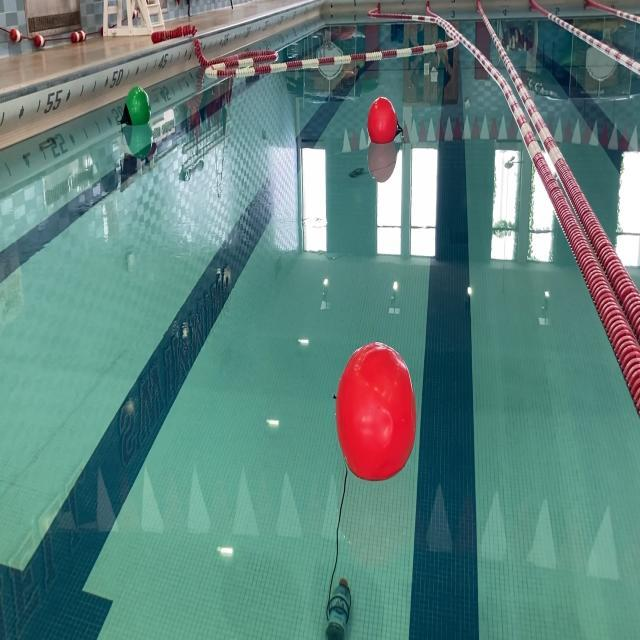buoy: (336, 342, 416, 484), (367, 96, 397, 144), (122, 85, 152, 130)
